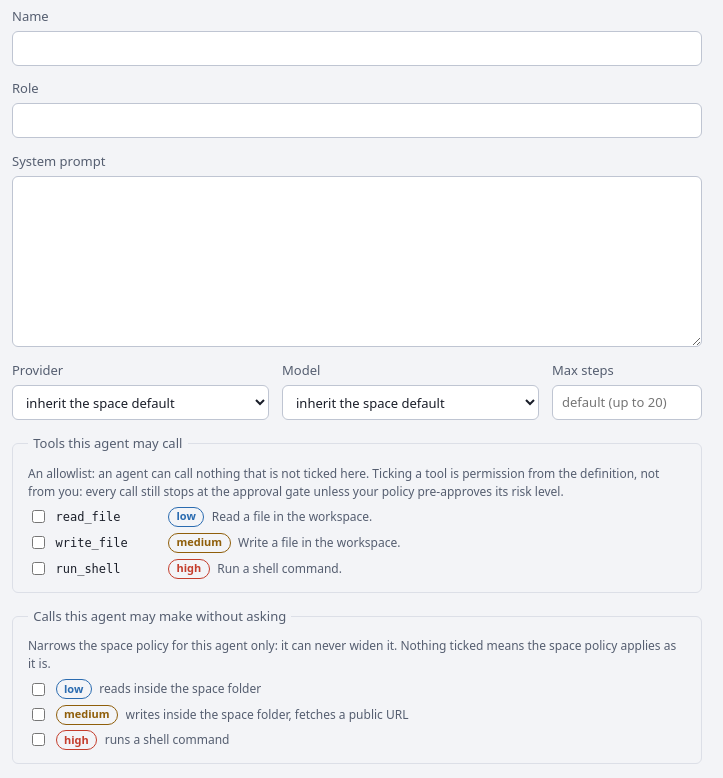
Test case: validation errors land on the field the server blamed › clears a field's error as soon as the user edits that field
Type "taken" into the field with test id "field-name" at (357, 48), box [12,31,702,66]
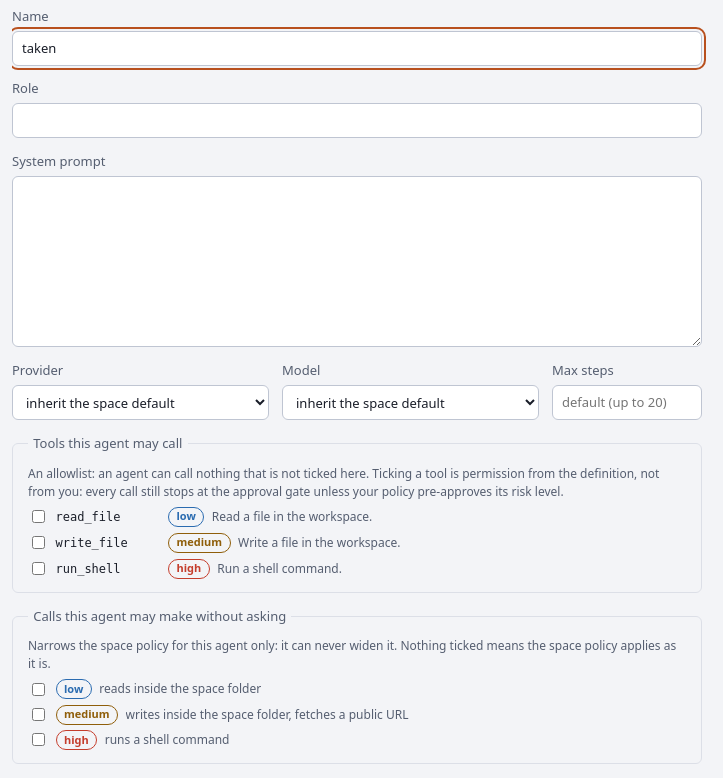
Type "You do the thing." into the text box with test id "field-system-prompt" at (357, 262), box [12,176,702,347]
(page scrolled)
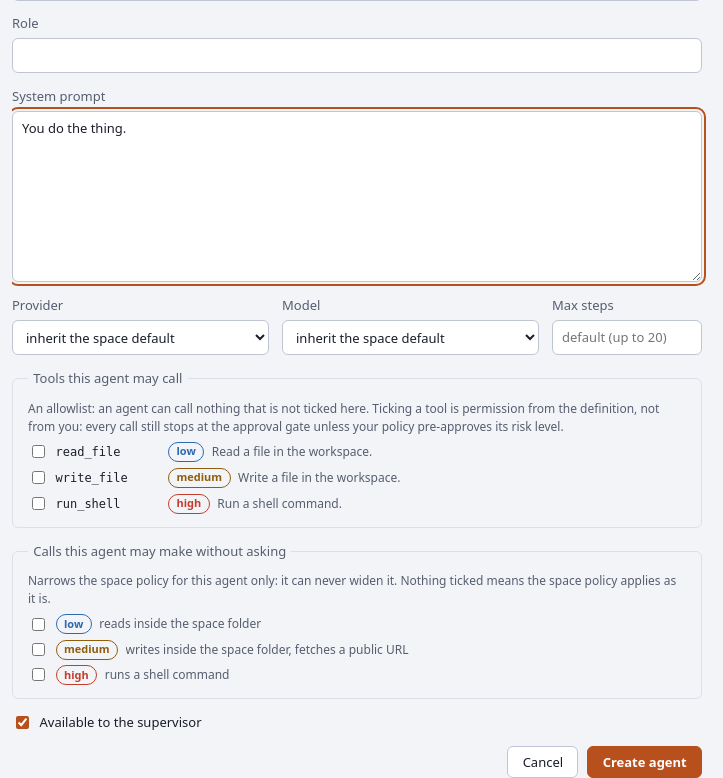
Click the button "Create agent" at (645, 762), box [587,746,702,777]
(page scrolled)
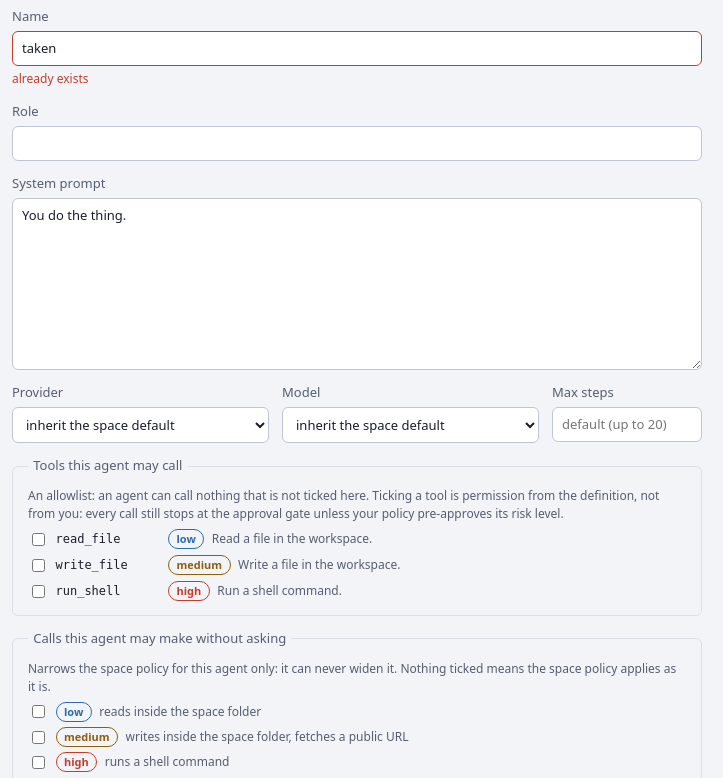
expect the message "already exists" is shown: met, box [12,70,88,87]
Type "-2" into the field with test id "field-name" at (357, 48), box [12,31,702,66]
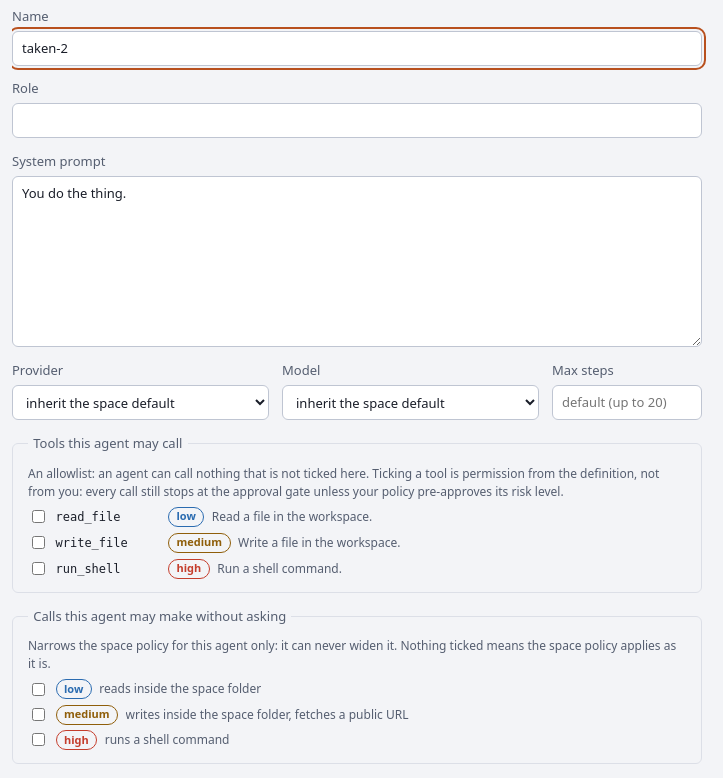
expect the message with test id "error-name" is gone: met
